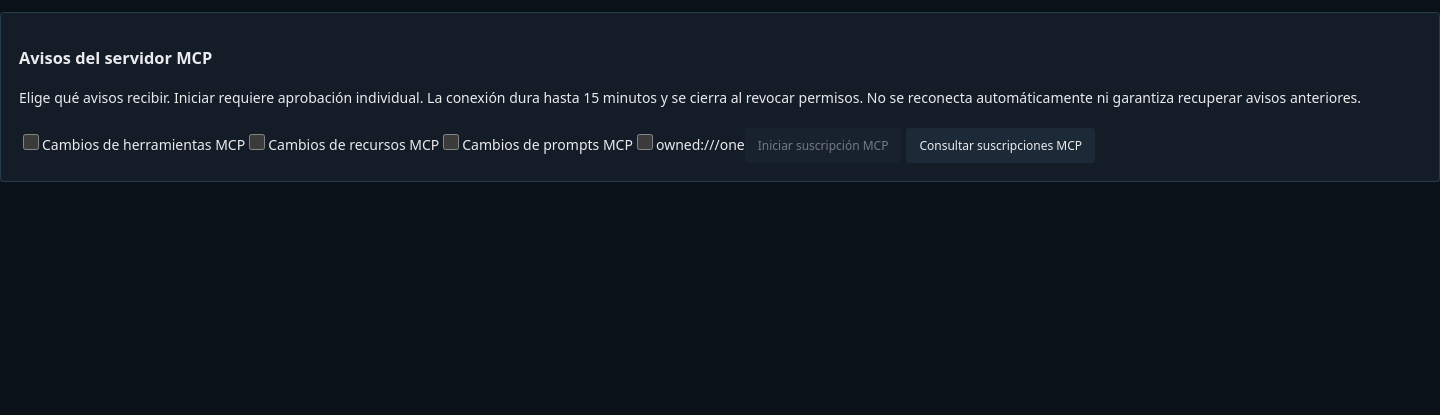
Test: poll rejection discards events and requires fresh catalog review
Click the checkbox labelled "Cambios de herramientas MCP".
click(31, 142)  # box [23,134,39,150]
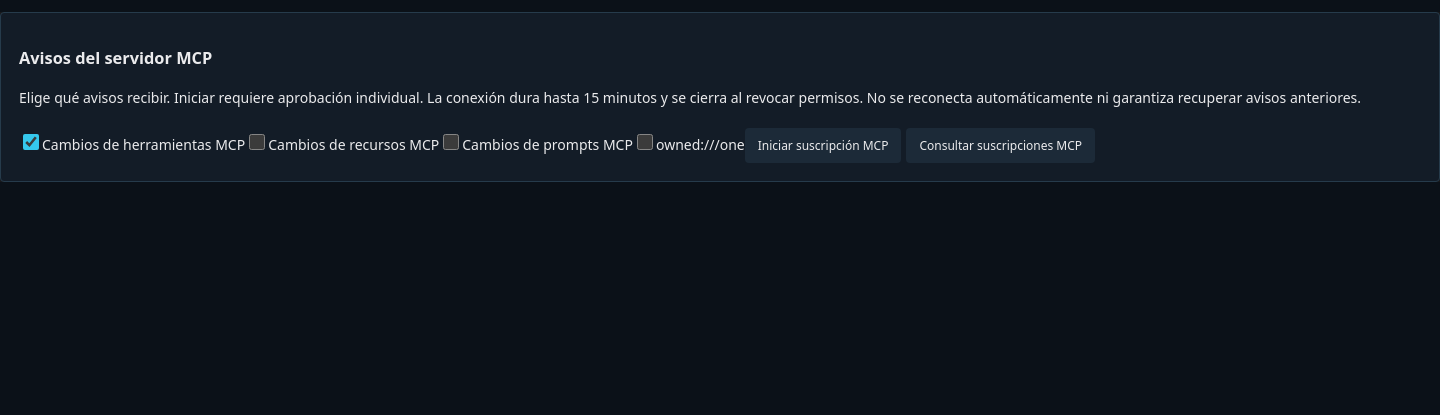
Click the button "Iniciar suscripción MCP".
click(823, 145)  # box [745,128,901,163]
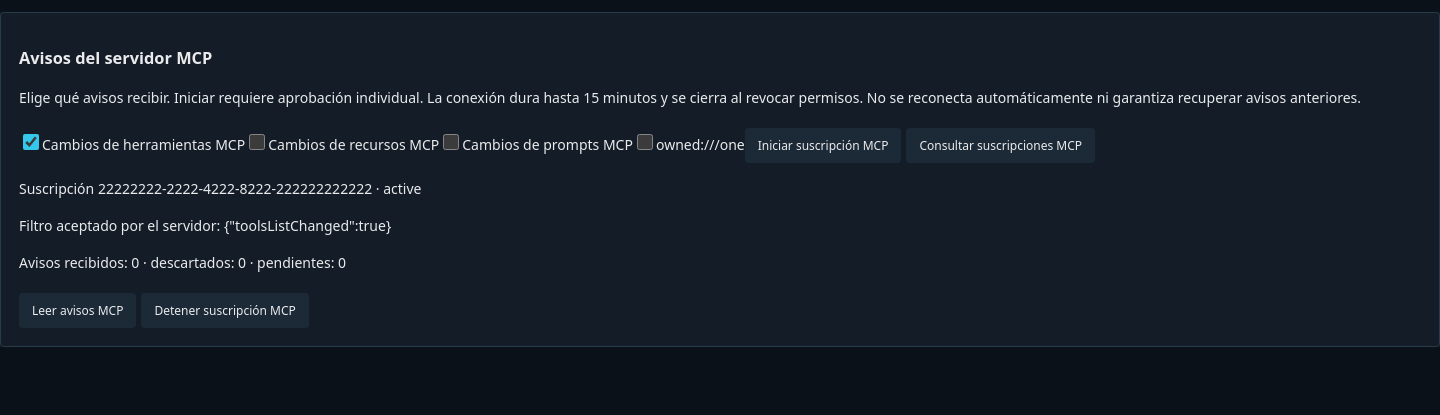
Now the button "Leer avisos MCP" is enabled
Click the button "Leer avisos MCP".
click(78, 311)  # box [19,293,136,328]
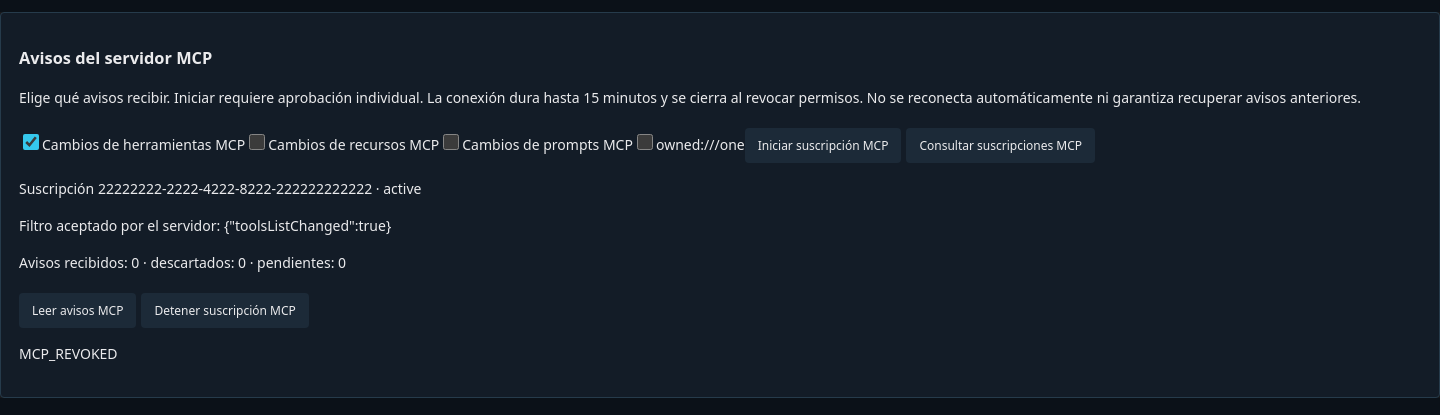
Now the message reads "MCP_REVOKED", box [19,344,118,363]
